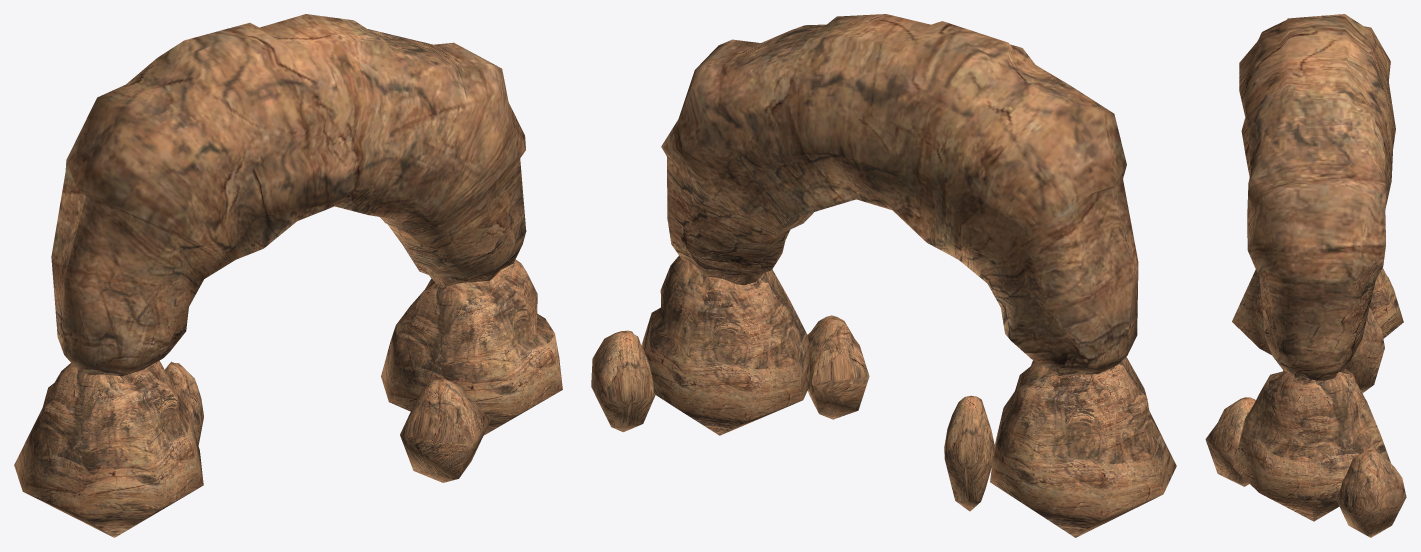
Rendered from rock_tatt_arch_med_l1.fbx.
3 views of the same model, side by side, from view 1: azimuth 30°, elevation 25°; view 2: azimuth 150°, elevation 25°; view 3: azimuth 270°, elevation 25° (orthographic). The views are drawn at different scales.
Parts seen in each view (by area): view 1: mesh_node; view 2: mesh_node; view 3: mesh_node.
Part boxes in pixels (<box>): mesh_node: <box>14,14,562,537</box>; mesh_node: <box>591,14,1176,537</box>; mesh_node: <box>1205,14,1406,537</box>.
Bounding box in the file's own units: 52.02 × 43.23 × 19.31.
